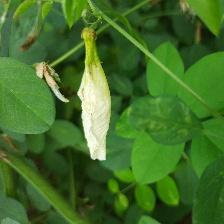shankupushpam: (75, 52, 117, 165)
